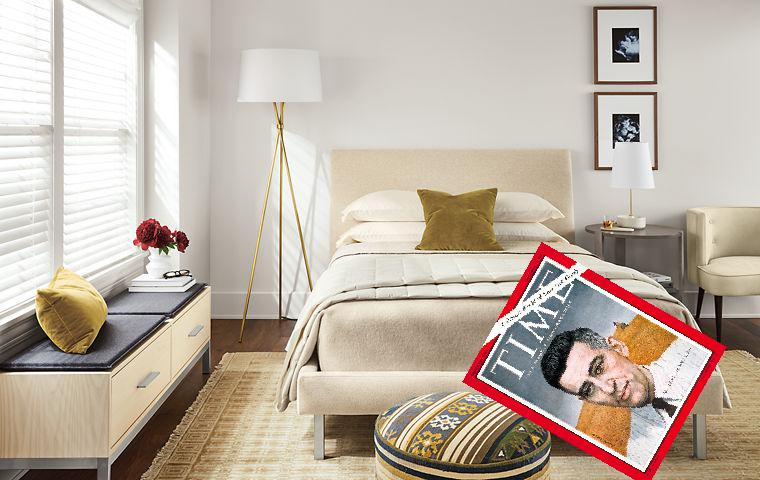times: (458, 239, 725, 480)
